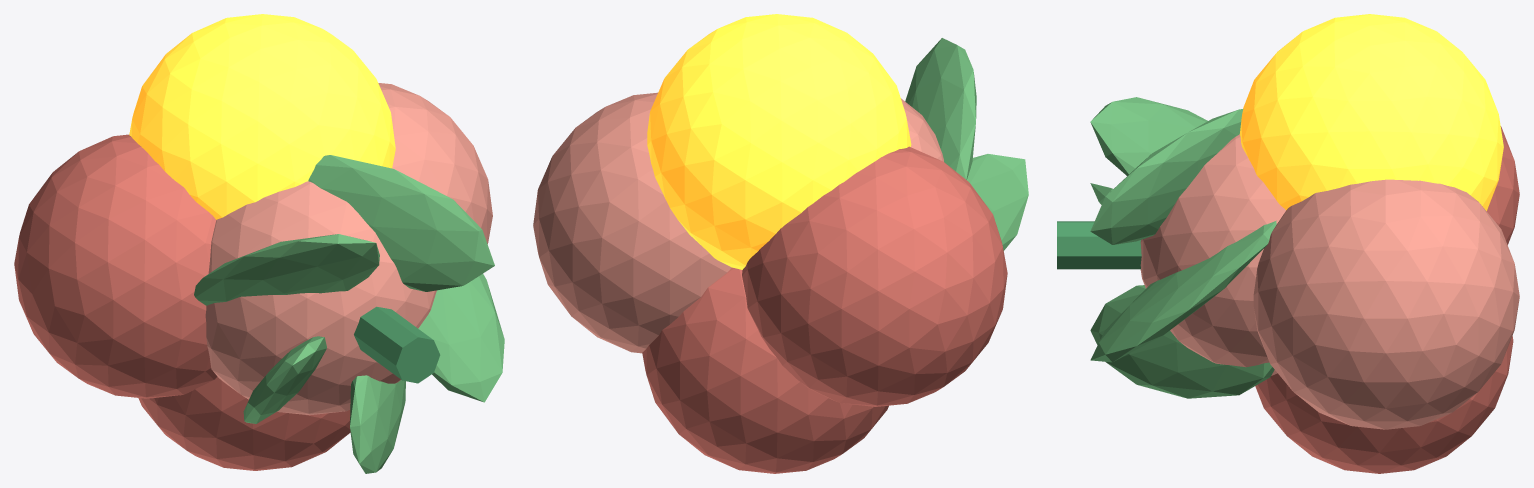
The model's file is sunberry-4096.glb.
3 renders of one model, left to right at view 1: azimuth 30°, elevation 25°; view 2: azimuth 150°, elevation 25°; view 3: azimuth 270°, elevation 25°, orthographic.
Parts seen in each view (by area): view 1: berry0, berry2, berry4, leaf1, berry3, leaf2, berry1, leaf0, leaf4, stem, leaf3; view 2: berry0, berry2, berry1, berry3, leaf2, leaf3, berry4; view 3: berry1, berry2, berry4, berry3, leaf1, leaf0, leaf4, leaf2, stem, berry0.
Part boxes in pixels (x1,y1,x2,y2): berry0: (14, 134, 217, 398); berry2: (129, 14, 395, 219); berry4: (205, 181, 436, 415); leaf1: (308, 155, 494, 291); berry3: (138, 377, 350, 470); leaf2: (194, 234, 379, 305); berry1: (378, 83, 492, 243); leaf0: (418, 274, 504, 402); leaf4: (350, 375, 405, 473); stem: (354, 306, 440, 383); leaf3: (243, 336, 326, 423); berry0: (742, 146, 1007, 406); berry2: (647, 14, 911, 269); berry1: (533, 92, 731, 353); berry3: (642, 267, 888, 473); leaf2: (905, 38, 976, 179); leaf3: (967, 154, 1028, 250); berry4: (901, 98, 943, 161); berry1: (1253, 179, 1519, 429); berry2: (1240, 14, 1503, 210); berry4: (1140, 134, 1285, 375); berry3: (1255, 336, 1513, 473); leaf1: (1090, 109, 1243, 244); leaf0: (1090, 220, 1276, 362); leaf4: (1090, 285, 1274, 398); leaf2: (1090, 97, 1207, 175); stem: (1057, 221, 1141, 269); berry0: (1486, 126, 1519, 244).
Size of the model in its own units: 2.7 by 2.55 by 2.45.
